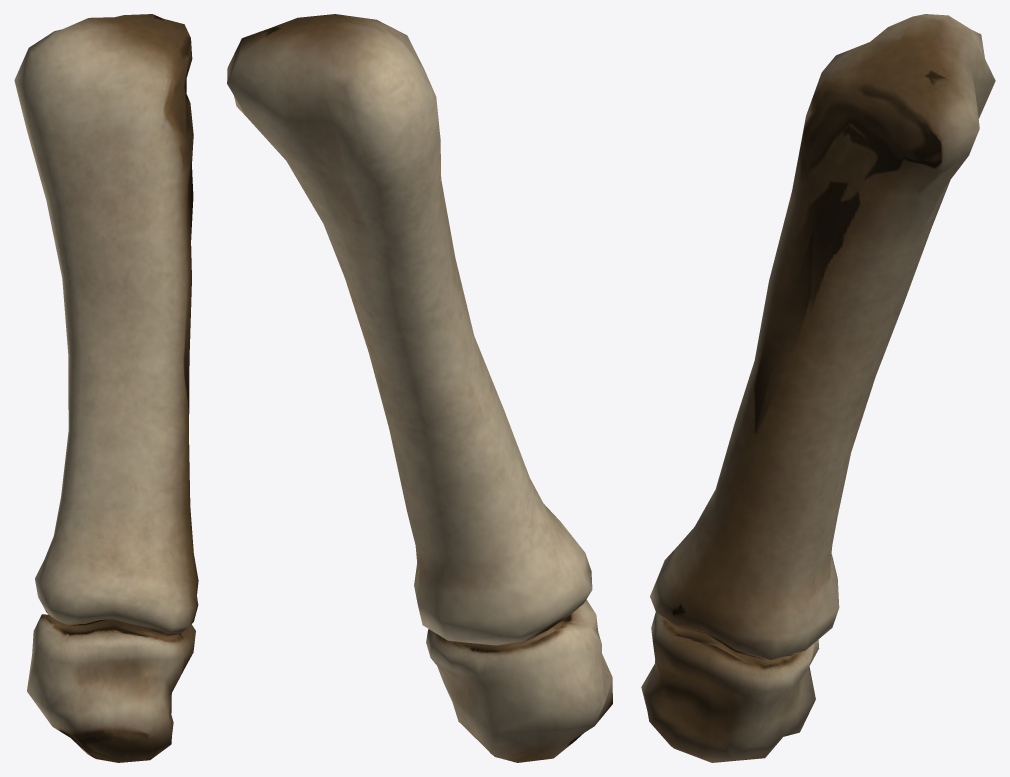
File: Metacarpal_V.glb
The picture shows the model from 3 angles, left to right: view 1: azimuth 30°, elevation 25°; view 2: azimuth 150°, elevation 25°; view 3: azimuth 270°, elevation 25°; orthographic projection. The views are drawn at different scales.
Parts seen in each view (by area): view 1: Metacarpal_V_Right1:Group37040; view 2: Metacarpal_V_Right1:Group37040; view 3: Metacarpal_V_Right1:Group37040.
Boxes of the visible parts, x1,y1,x2,y2 form: Metacarpal_V_Right1:Group37040: (14, 14, 198, 762); Metacarpal_V_Right1:Group37040: (227, 14, 612, 762); Metacarpal_V_Right1:Group37040: (641, 14, 995, 762).
Size of the model in its own units: 16.97 by 45.33 by 18.99.
1 material, 1 textured.
